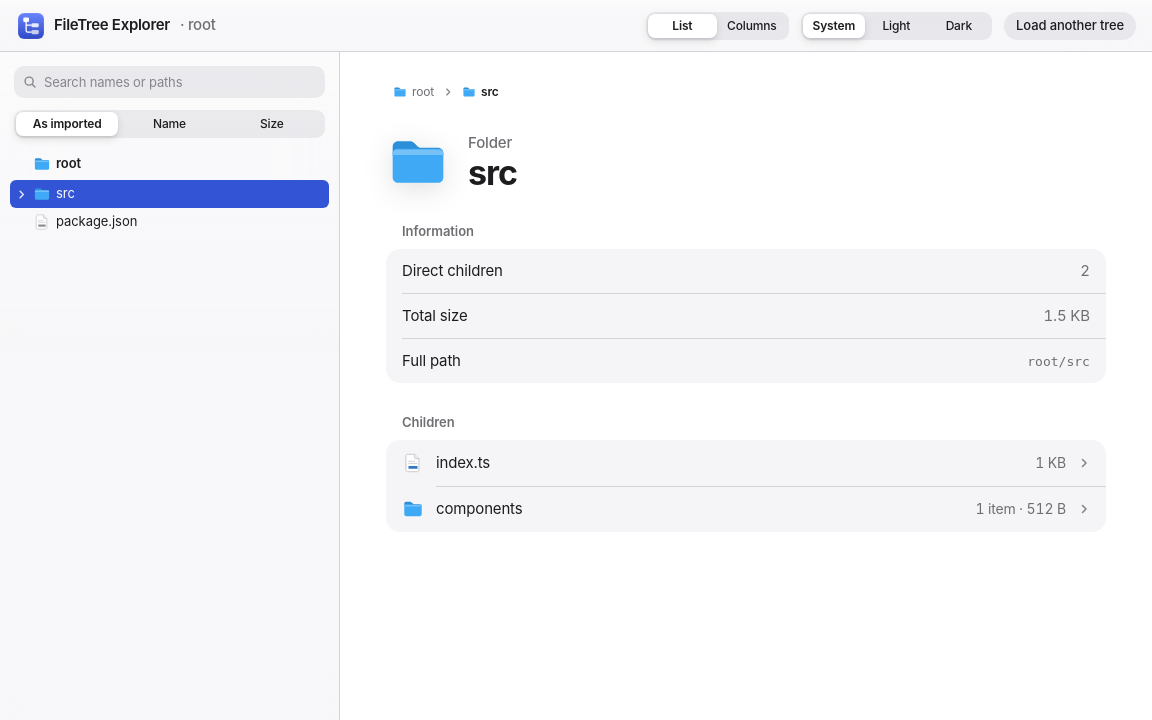
Test: node details › lists the children of a folder as links to their details
Click the link "components": (479, 508) top-left (436, 499), bottom-right (522, 518)
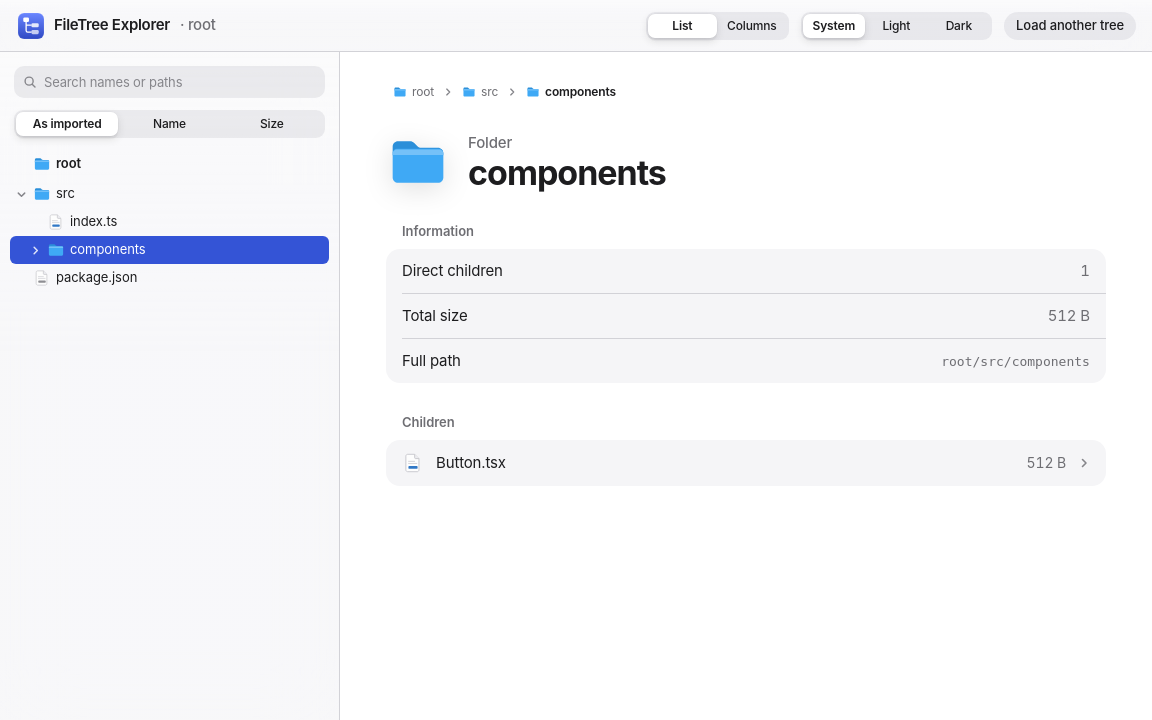
Expected: the heading "components" is shown, top-left (468, 154), bottom-right (666, 192)
